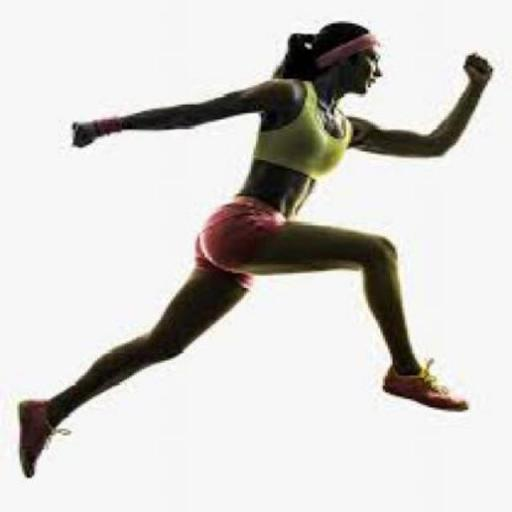Running: (30, 0, 510, 485)
